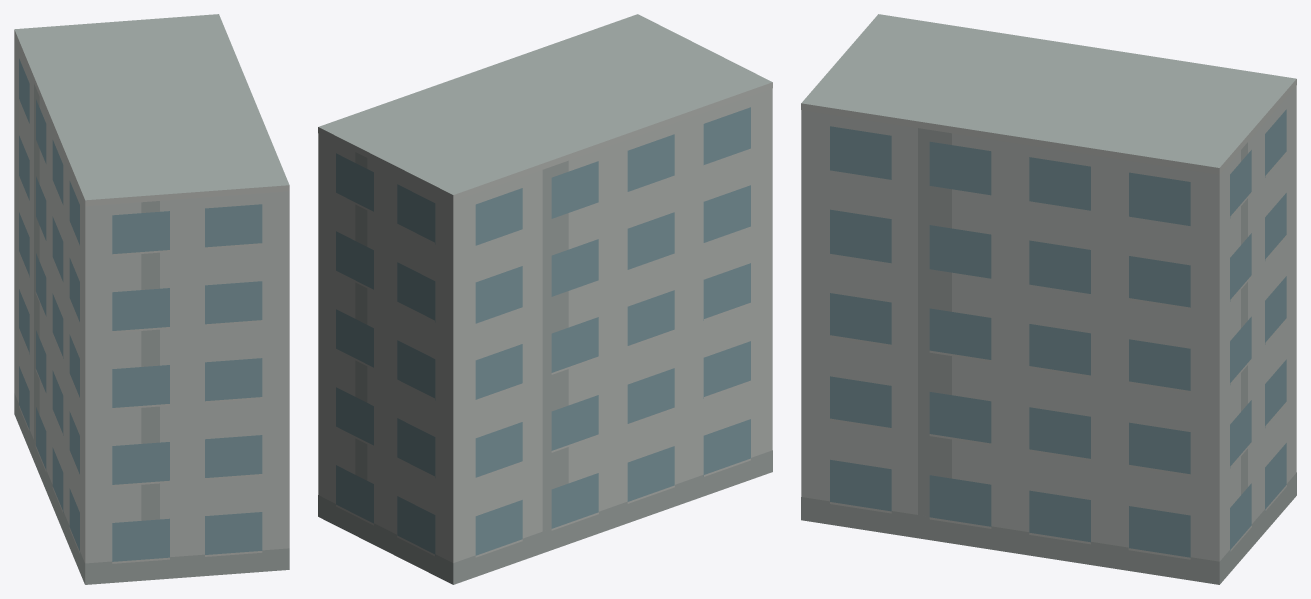
Rendered from residential-800ccc66-5d3d-447d-ad44-c962070c4386.glb.
3 views of the same model, side by side, from view 1: azimuth 30°, elevation 25°; view 2: azimuth 150°, elevation 25°; view 3: azimuth 270°, elevation 25° (orthographic). The views are drawn at different scales.
Parts seen in each view (by area): view 1: residential-800ccc66-5d3d-447d-ad44-c962070c4386.tmp; view 2: residential-800ccc66-5d3d-447d-ad44-c962070c4386.tmp; view 3: residential-800ccc66-5d3d-447d-ad44-c962070c4386.tmp.
Boxes of the visible parts, box(x1,y1,x2,y2) form: residential-800ccc66-5d3d-447d-ad44-c962070c4386.tmp: box(14, 14, 289, 584); residential-800ccc66-5d3d-447d-ad44-c962070c4386.tmp: box(318, 14, 772, 584); residential-800ccc66-5d3d-447d-ad44-c962070c4386.tmp: box(801, 14, 1296, 584).
Size of the model in its own units: 12.09 by 15.25 by 16.44.
